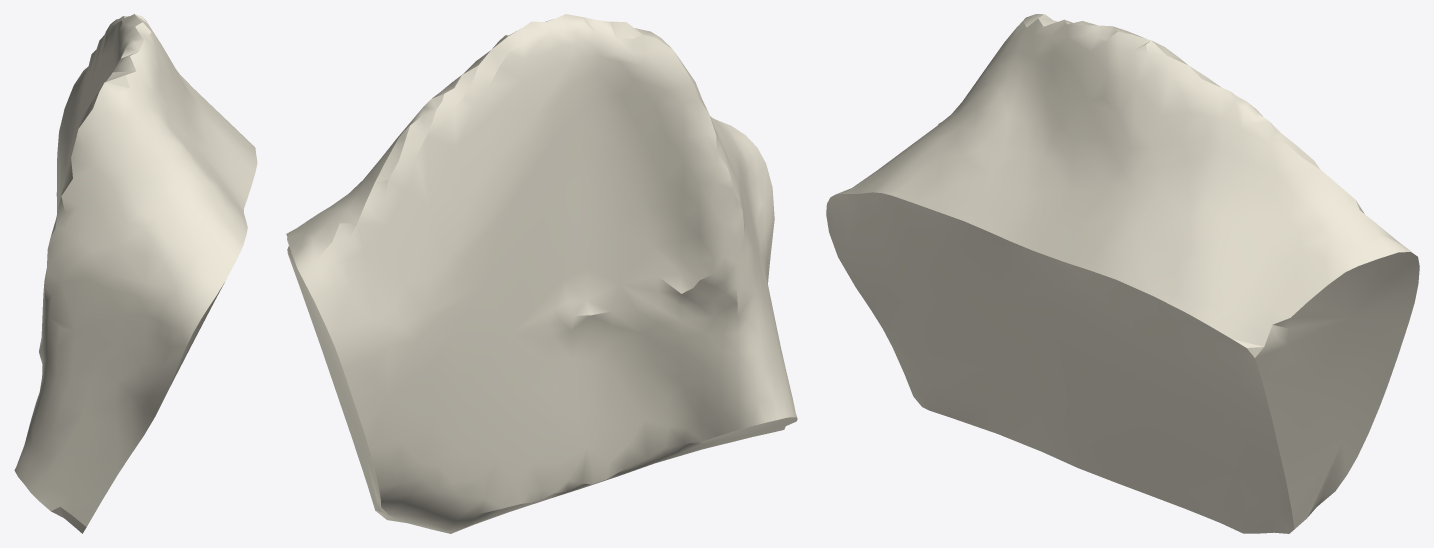
File: fma16145_mm2358.glb
The picture shows the model from 3 angles, left to right: view 1: azimuth 30°, elevation 25°; view 2: azimuth 150°, elevation 25°; view 3: azimuth 270°, elevation 25°; orthographic projection. The views are drawn at different scales.
Visible parts, largest first — view 1: FMA16145_MM2358; view 2: FMA16145_MM2358; view 3: FMA16145_MM2358.
Part boxes in pixels (x1=…): FMA16145_MM2358: x1=14, y1=14, x2=257, y2=533; FMA16145_MM2358: x1=286, y1=14, x2=797, y2=533; FMA16145_MM2358: x1=826, y1=14, x2=1419, y2=533.
Bounding box in the file's own units: 0.0127 × 0.0154 × 0.0169.
